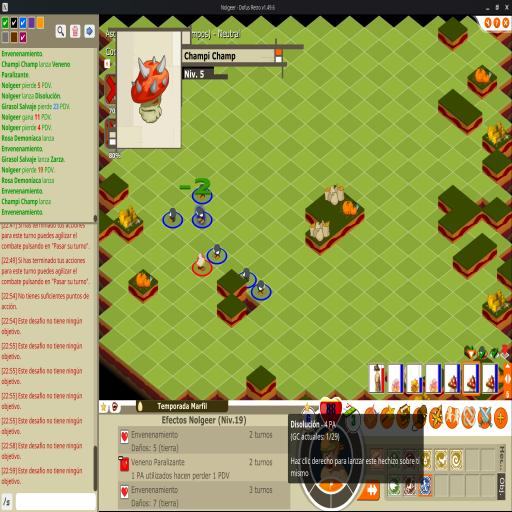Enemigos: (194, 206, 206, 224), (212, 242, 222, 260), (242, 267, 252, 285), (257, 280, 267, 297), (168, 206, 177, 222), (197, 188, 207, 200)
Personaje: (196, 253, 206, 271)
